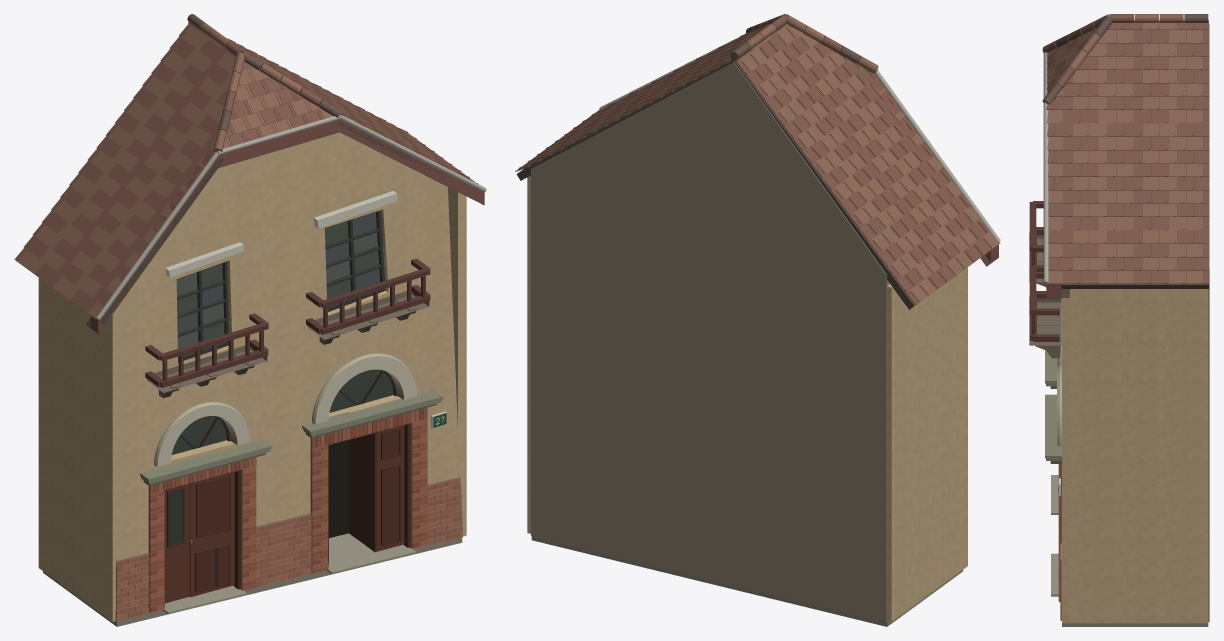
Rendered from putuo-aomen-660-no27-gabled-entrances-raw.glb.
3 views of the same model, side by side, from view 1: azimuth 30°, elevation 25°; view 2: azimuth 150°, elevation 25°; view 3: azimuth 270°, elevation 25° (orthographic). The views are drawn at different scales.
Visible parts, largest first — view 1: 澳门路660弄27号山墙下的双门廊; view 2: 澳门路660弄27号山墙下的双门廊; view 3: 澳门路660弄27号山墙下的双门廊.
Part boxes in pixels (left/top/right/bottom): 澳门路660弄27号山墙下的双门廊: left=14, top=14, right=486, bottom=626; 澳门路660弄27号山墙下的双门廊: left=515, top=14, right=1000, bottom=626; 澳门路660弄27号山墙下的双门廊: left=1029, top=14, right=1209, bottom=626.
Size of the model in its own units: 5.81 by 7.44 by 2.35.
Materials: 44 (1 with a texture image).
